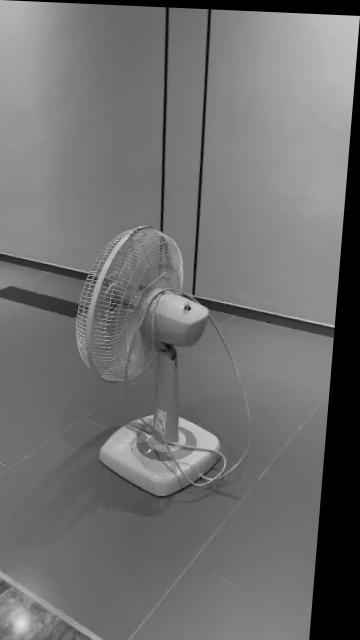Fan: (81, 224, 229, 496)
